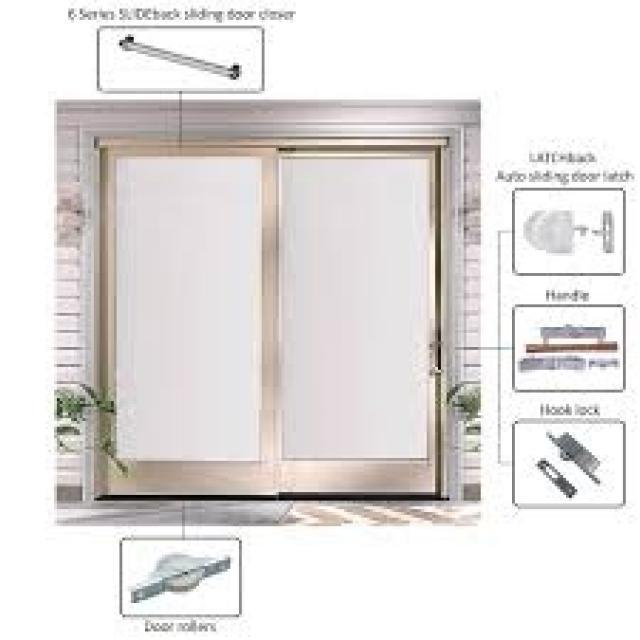door: (97, 137, 450, 500)
